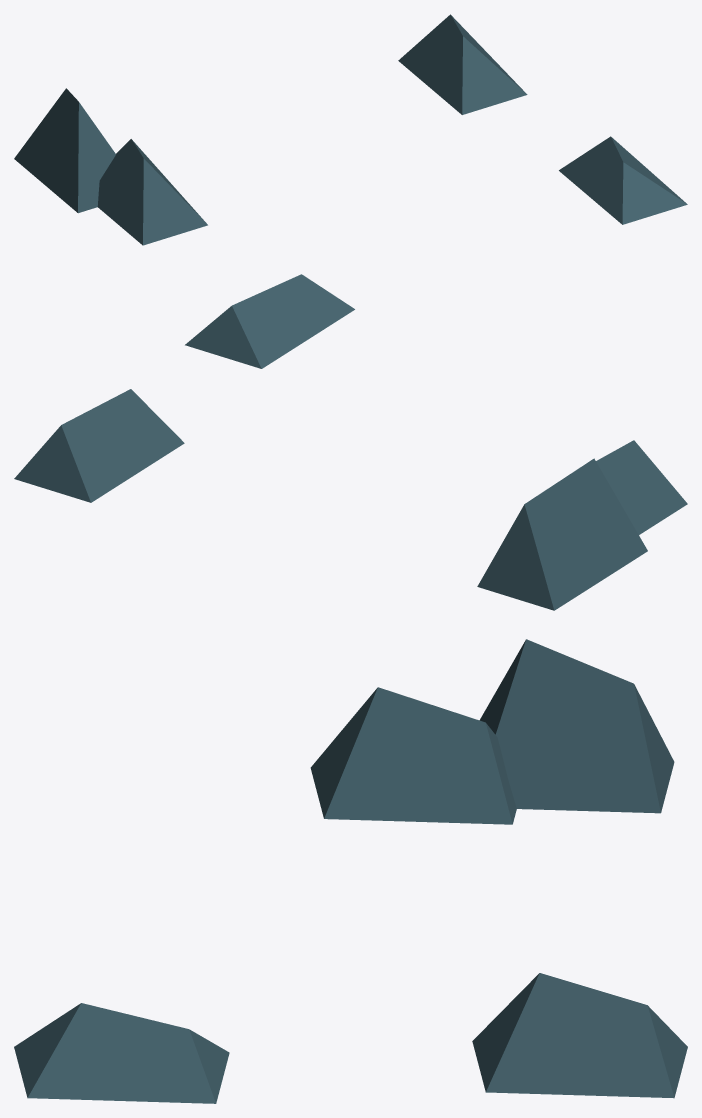
The model's file is terrain-ridges.glb.
The picture shows the model from 3 angles, top to bottom: view 1: azimuth 30°, elevation 25°; view 2: azimuth 150°, elevation 25°; view 3: azimuth 270°, elevation 25°; orthographic projection. The views are drawn at different scales.
Visible parts, largest first — view 1: LMW_Ridge_1, LMW_Ridge_2, LMW_Ridge_0, LMW_Ridge_3; view 2: LMW_Ridge_1, LMW_Ridge_2, LMW_Ridge_3, LMW_Ridge_0; view 3: LMW_Ridge_1, LMW_Ridge_0, LMW_Ridge_2, LMW_Ridge_3.
Boxes of the visible parts, bbox=[...] form: LMW_Ridge_1: bbox=[14, 88, 115, 213]; LMW_Ridge_2: bbox=[398, 14, 527, 114]; LMW_Ridge_0: bbox=[97, 139, 207, 245]; LMW_Ridge_3: bbox=[559, 136, 687, 224]; LMW_Ridge_1: bbox=[477, 458, 647, 610]; LMW_Ridge_2: bbox=[14, 389, 184, 502]; LMW_Ridge_3: bbox=[185, 274, 354, 368]; LMW_Ridge_0: bbox=[596, 440, 687, 534]; LMW_Ridge_1: bbox=[479, 639, 674, 813]; LMW_Ridge_0: bbox=[310, 687, 516, 824]; LMW_Ridge_2: bbox=[472, 973, 687, 1098]; LMW_Ridge_3: bbox=[14, 1003, 229, 1103].
Size of the model in its own units: 61 by 11 by 50.
